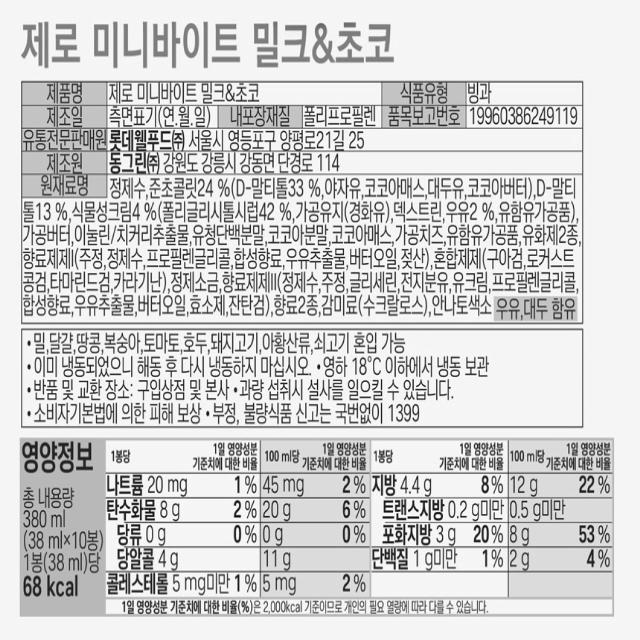Nutrition Label: (7, 426, 632, 640)
